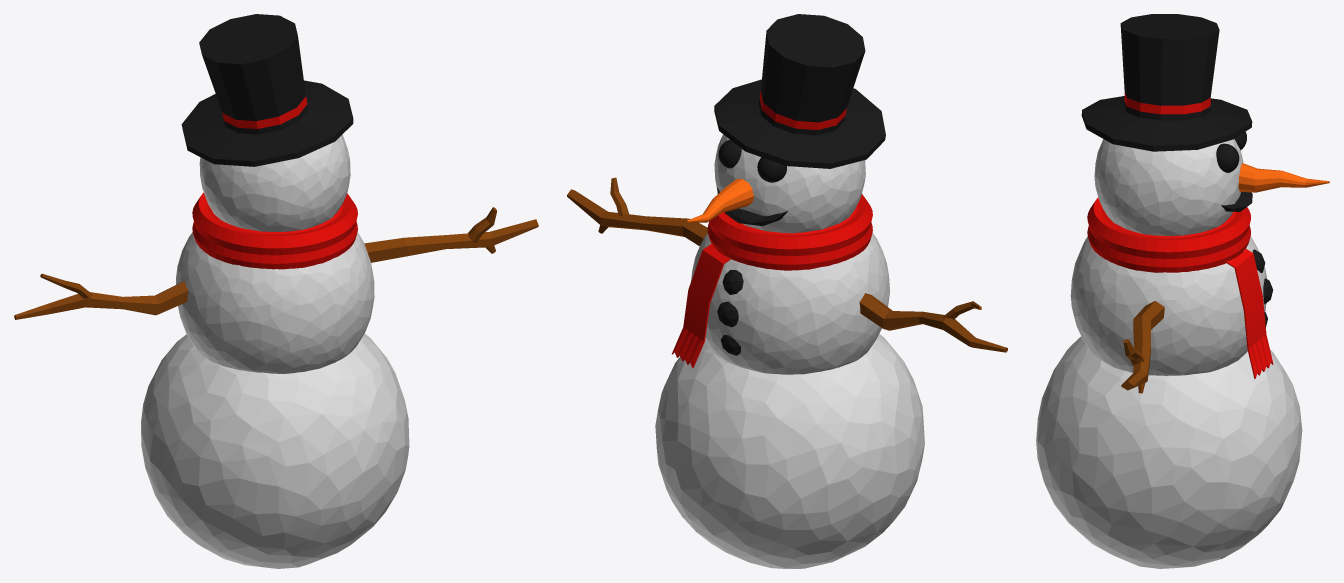
File: Snowman.fbx
The picture shows the model from 3 angles, left to right: view 1: azimuth 30°, elevation 25°; view 2: azimuth 150°, elevation 25°; view 3: azimuth 270°, elevation 25°; orthographic projection.
Visible parts, largest first — view 1: Icosphere, Icosphere.001, Cylinder.001, Icosphere.002, Torus, Cylinder.002, Cylinder.003; view 2: Icosphere, Cylinder.001, Icosphere.001, Icosphere.002, Torus, Cube, Cylinder.002, Cylinder.003, Cylinder, Icosphere.008, Icosphere.007; view 3: Icosphere, Icosphere.001, Cylinder.001, Icosphere.002, Torus, Cube, Cylinder.002, Cylinder, Icosphere.006.
Part boxes in pixels (bbox=[...]): Icosphere: bbox=[141, 333, 409, 568]; Icosphere.001: bbox=[176, 232, 374, 373]; Cylinder.001: bbox=[181, 14, 353, 166]; Icosphere.002: bbox=[199, 134, 350, 231]; Torus: bbox=[192, 192, 357, 269]; Cylinder.002: bbox=[364, 207, 538, 262]; Cylinder.003: bbox=[14, 273, 188, 319]; Icosphere: bbox=[655, 334, 924, 568]; Cylinder.001: bbox=[714, 14, 885, 168]; Icosphere.001: bbox=[690, 232, 889, 374]; Icosphere.002: bbox=[714, 134, 865, 233]; Torus: bbox=[707, 194, 872, 270]; Cube: bbox=[672, 243, 730, 368]; Cylinder.002: bbox=[567, 177, 707, 246]; Cylinder.003: bbox=[859, 293, 1007, 352]; Cylinder: bbox=[686, 178, 753, 222]; Icosphere.008: bbox=[717, 187, 787, 226]; Icosphere.007: bbox=[757, 157, 786, 182]; Icosphere: bbox=[1036, 336, 1302, 568]; Icosphere.001: bbox=[1070, 236, 1266, 375]; Cylinder.001: bbox=[1081, 14, 1252, 151]; Icosphere.002: bbox=[1094, 139, 1243, 235]; Torus: bbox=[1087, 197, 1250, 272]; Cube: bbox=[1226, 249, 1273, 378]; Cylinder.002: bbox=[1121, 301, 1164, 393]; Cylinder: bbox=[1238, 163, 1329, 192]; Icosphere.006: bbox=[1216, 143, 1239, 172].
Bounding box in the file's own units: 382 × 405 × 205.
